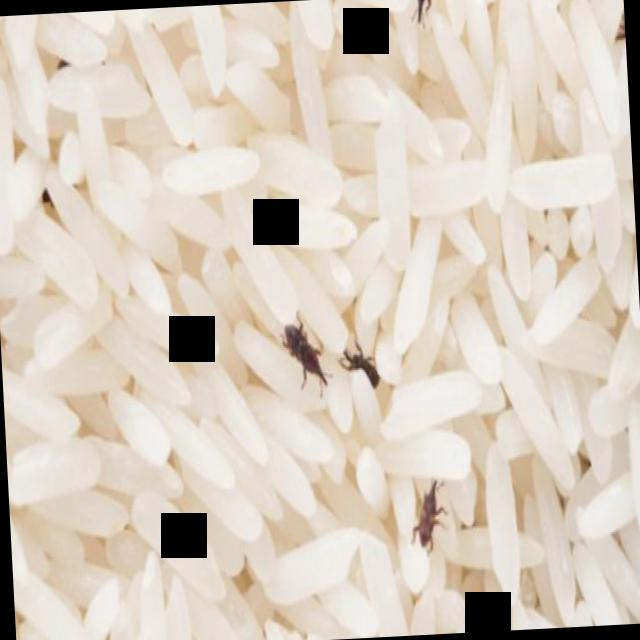Kutu_beras: (276, 306, 332, 401), (406, 472, 448, 552), (341, 343, 387, 392), (406, 0, 441, 30), (613, 0, 626, 47)
